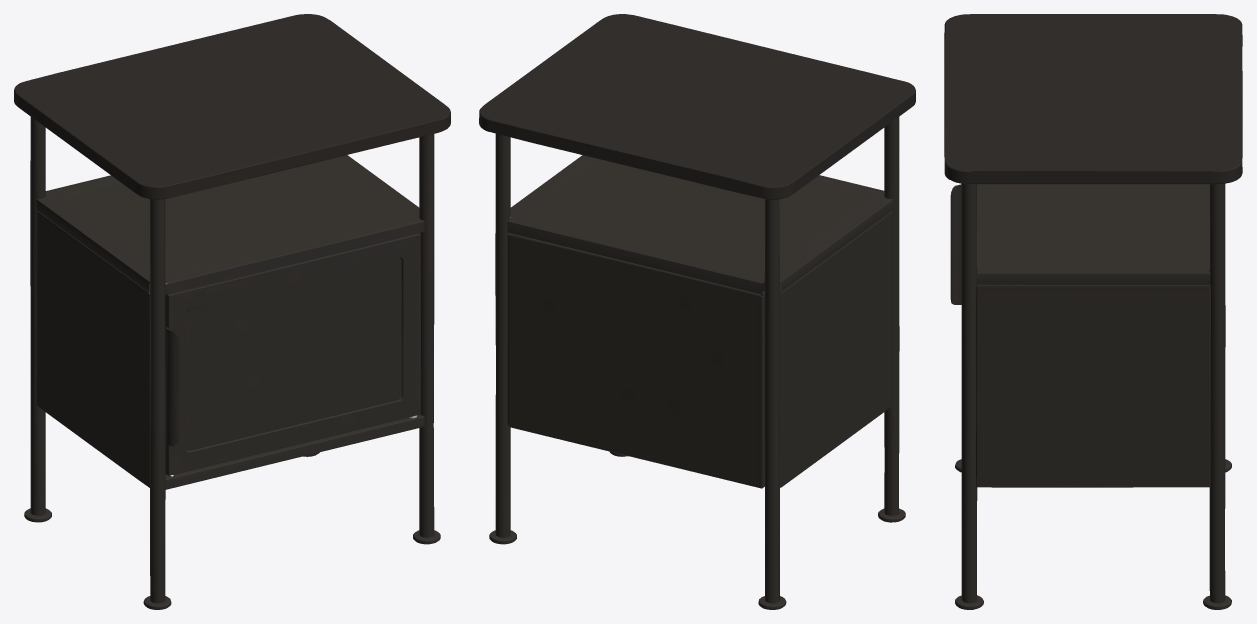
The model's file is grafjallet_stolik_nocny_20570221.glb.
The picture shows the model from 3 angles, left to right: view 1: azimuth 30°, elevation 25°; view 2: azimuth 150°, elevation 25°; view 3: azimuth 270°, elevation 25°; orthographic projection. The views are drawn at different scales.
Visible parts, largest first — view 1: grafjallet_stolik_nocny_20570221; view 2: grafjallet_stolik_nocny_20570221; view 3: grafjallet_stolik_nocny_20570221.
Part boxes in pixels (<box>): grafjallet_stolik_nocny_20570221: <box>14,14,450,609</box>; grafjallet_stolik_nocny_20570221: <box>479,14,915,609</box>; grafjallet_stolik_nocny_20570221: <box>944,14,1242,609</box>.
Size of the model in its own units: 0.4505 by 0.5926 by 0.3605.
1 material, 1 textured.
